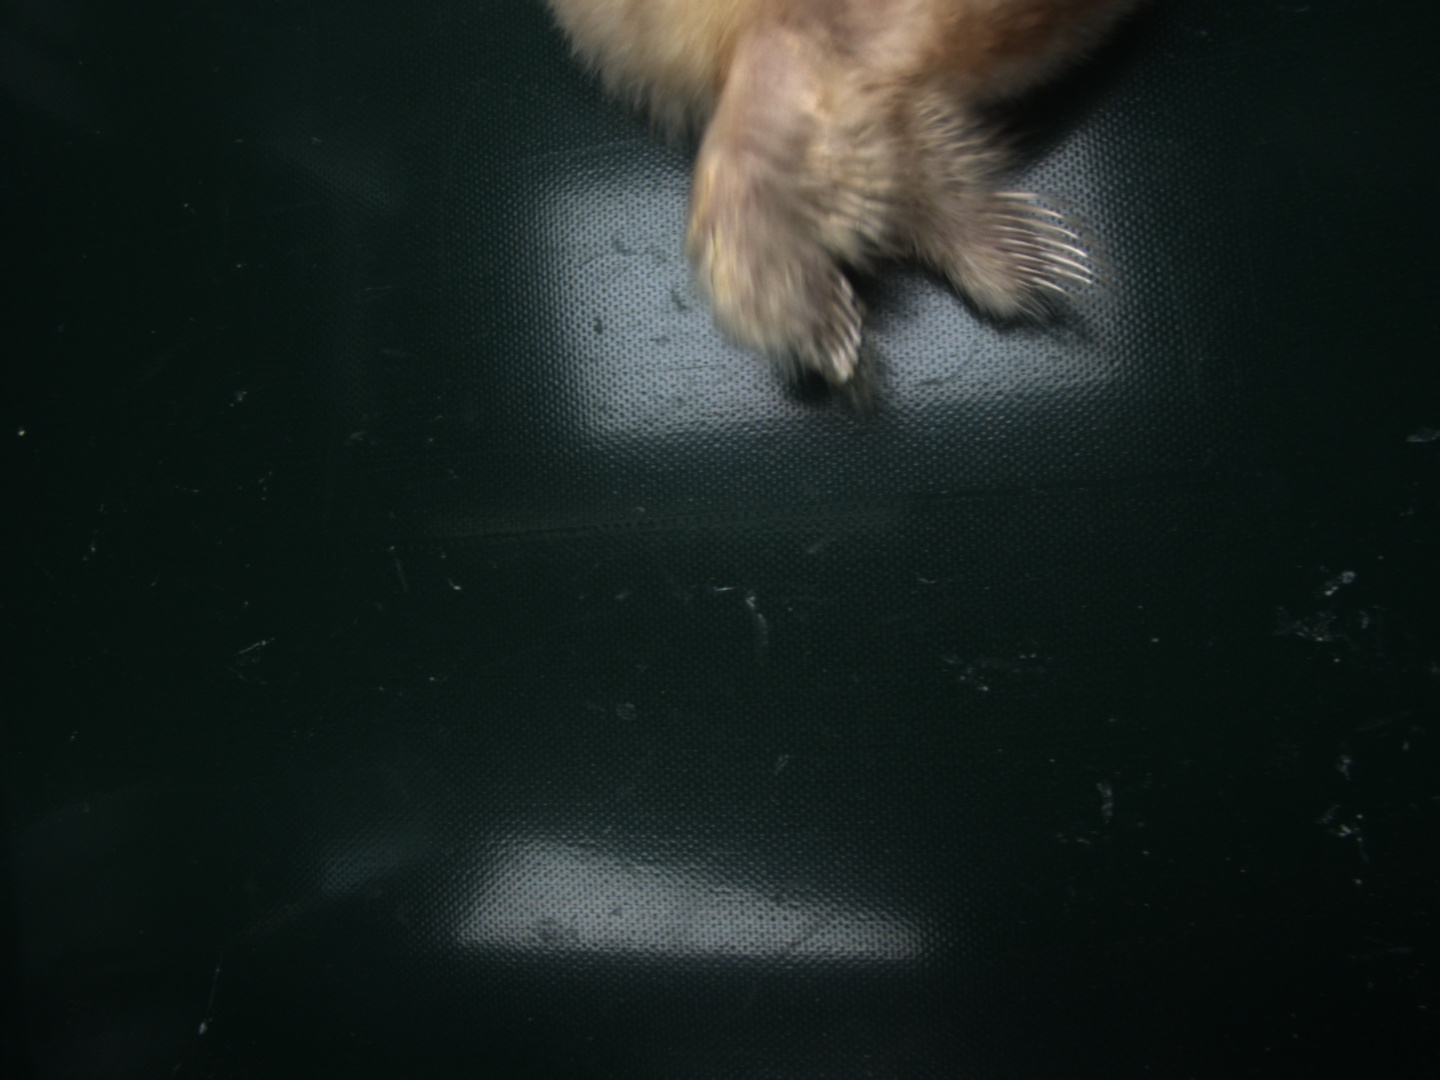female: (969, 188, 1090, 301)
